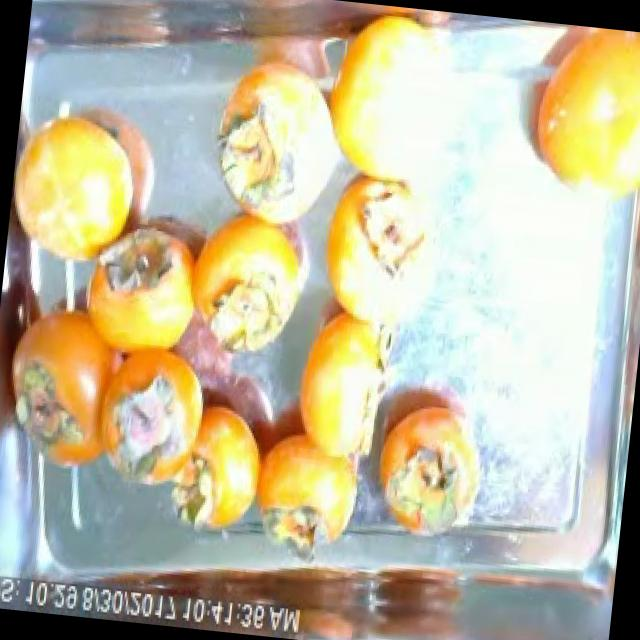Fruit: (3, 85, 168, 292)
